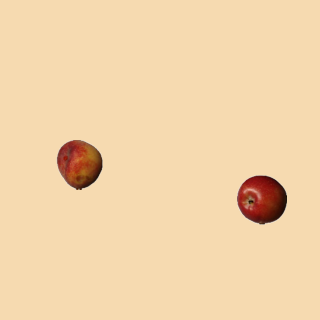Apple Braeburn: (236, 174, 286, 224)
Peach: (54, 139, 104, 189)
